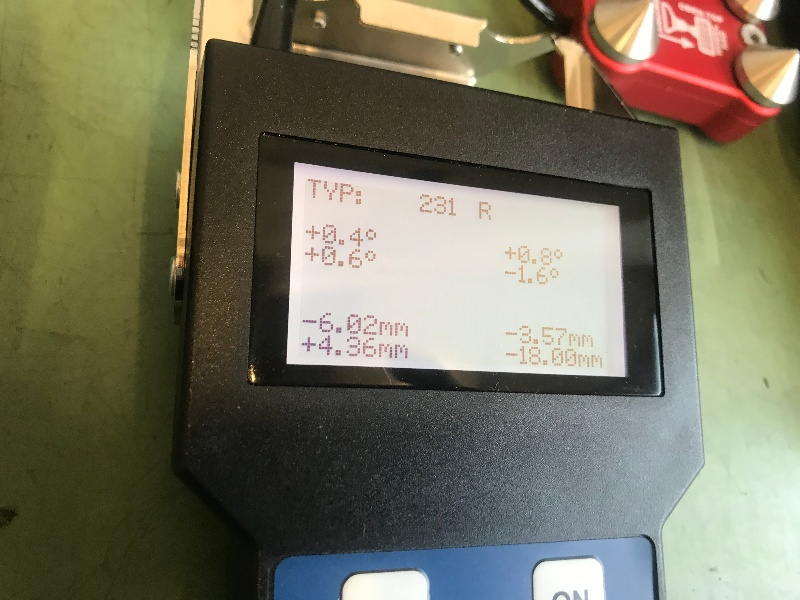ins_one: (284, 161, 627, 379)
